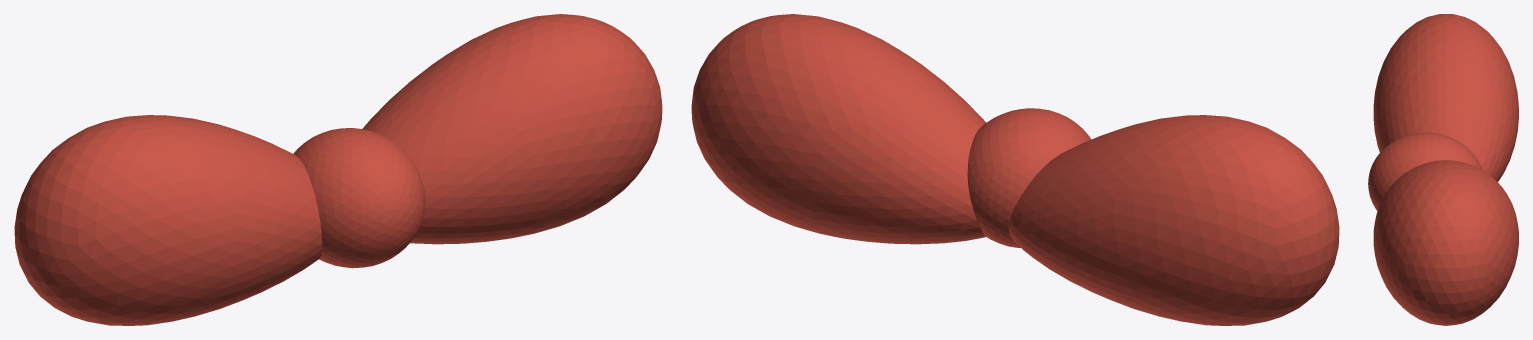
The model's file is bow.glb.
The picture shows the model from 3 angles, left to right: view 1: azimuth 30°, elevation 25°; view 2: azimuth 150°, elevation 25°; view 3: azimuth 270°, elevation 25°; orthographic projection. The views are drawn at different scales.
Parts seen in each view (by area): view 1: geometry_0; view 2: geometry_0; view 3: geometry_0.
Boxes of the visible parts, <box> form: geometry_0: <box>14,14,662,325</box>; geometry_0: <box>691,14,1339,325</box>; geometry_0: <box>1368,14,1518,325</box>.
Size of the model in its own units: 0.7825 by 0.2319 by 0.22.
